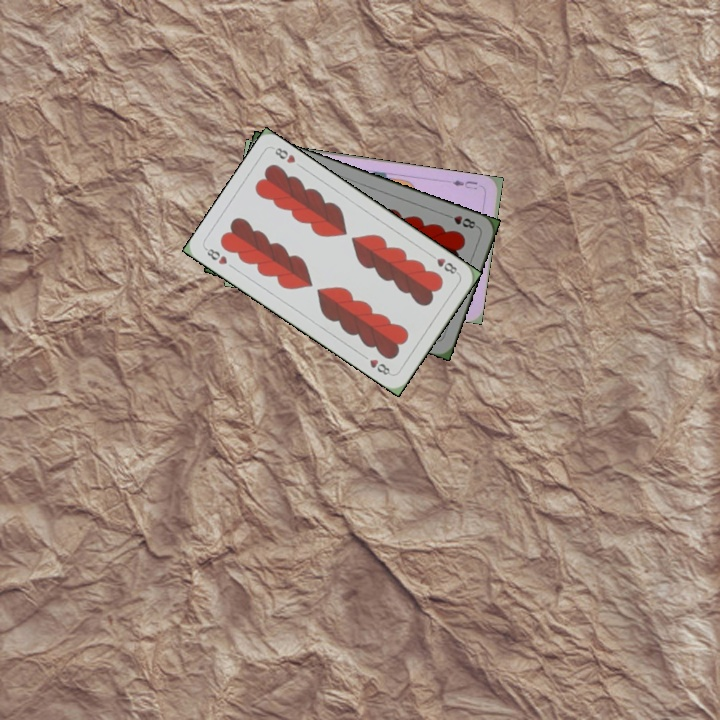EU: (448, 176, 480, 192)
H8: (425, 250, 461, 277), (441, 210, 480, 231), (201, 244, 230, 267)
